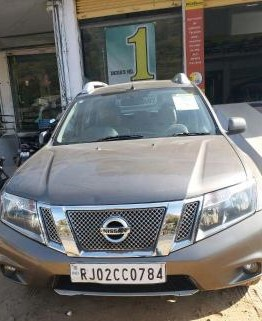RJ02CC0784: (70, 262, 166, 284)
